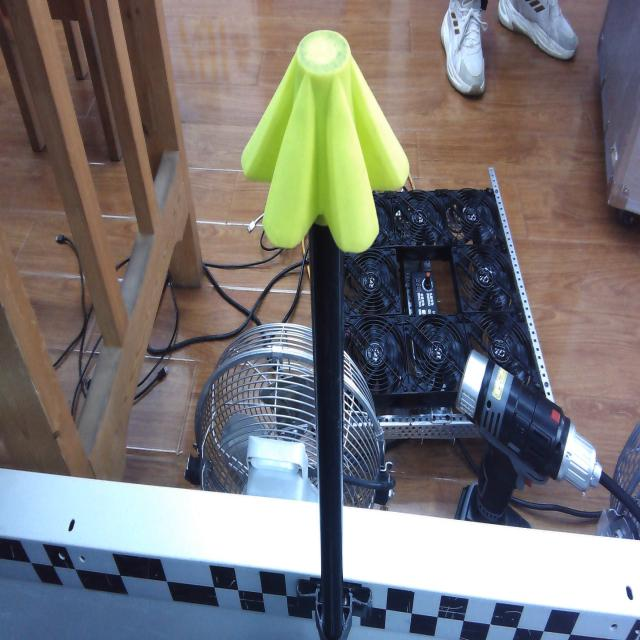Yellow-Stake-Head: (242, 27, 410, 259)
